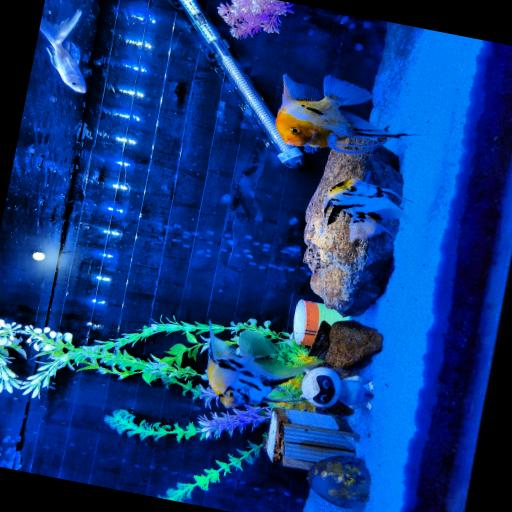Fish: (276, 74, 407, 153), (207, 330, 318, 407), (323, 178, 405, 240), (40, 9, 86, 92)
